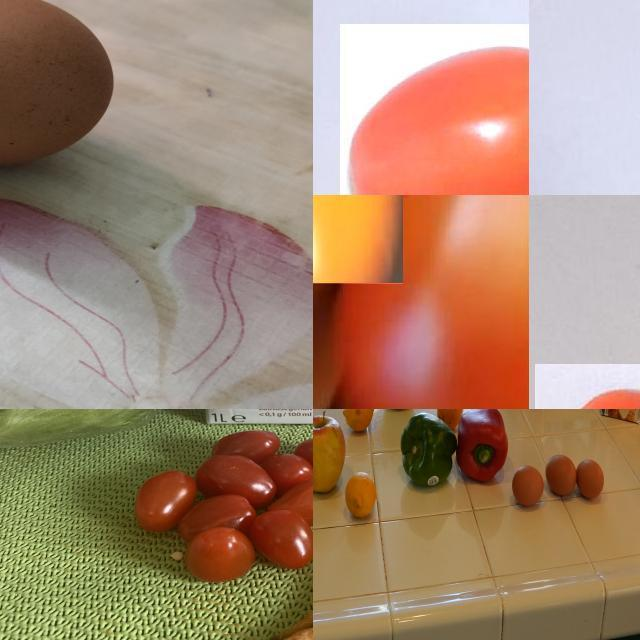bell_pepper: (452, 410, 515, 487), (396, 413, 458, 489)
egg: (1, 1, 120, 175), (510, 464, 547, 511), (545, 452, 579, 500), (577, 457, 607, 505)
tomato: (332, 196, 530, 410), (341, 25, 530, 196), (142, 410, 314, 584)
